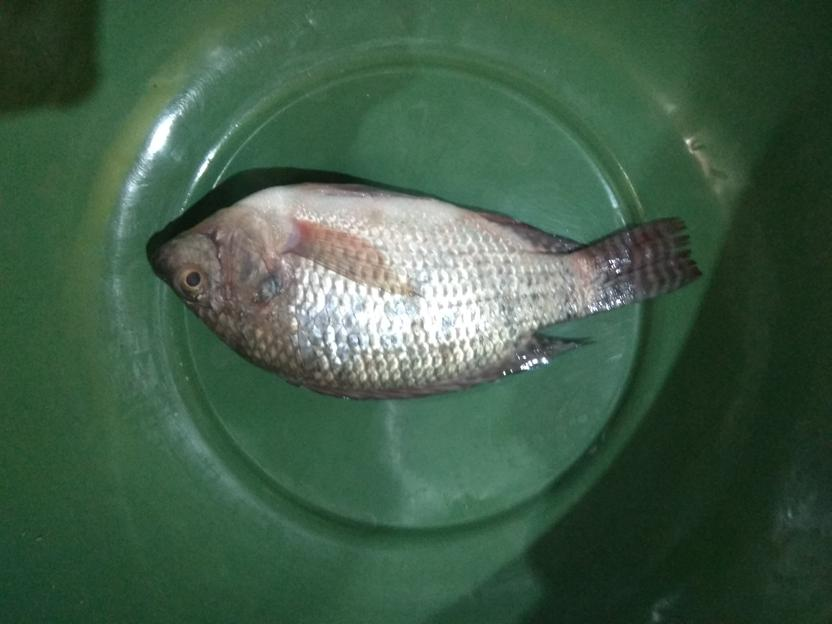Fish head: (149, 202, 283, 333)
Fish tail: (581, 216, 702, 318)
